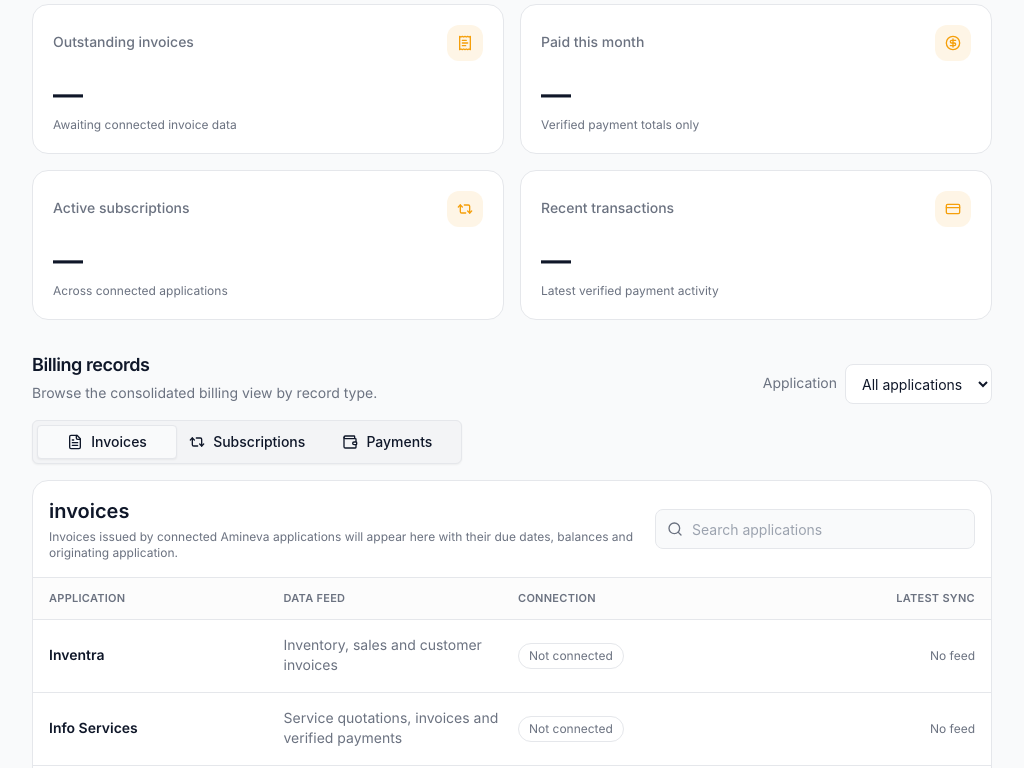
Scenario: Amineva Switch dashboard › filters the application connection list
This screenshot has width=1024, height=768.
Select "Info Services" in the dropdown named "Filter by application" at (918, 384), box [845,364,992,404]
(page scrolled)
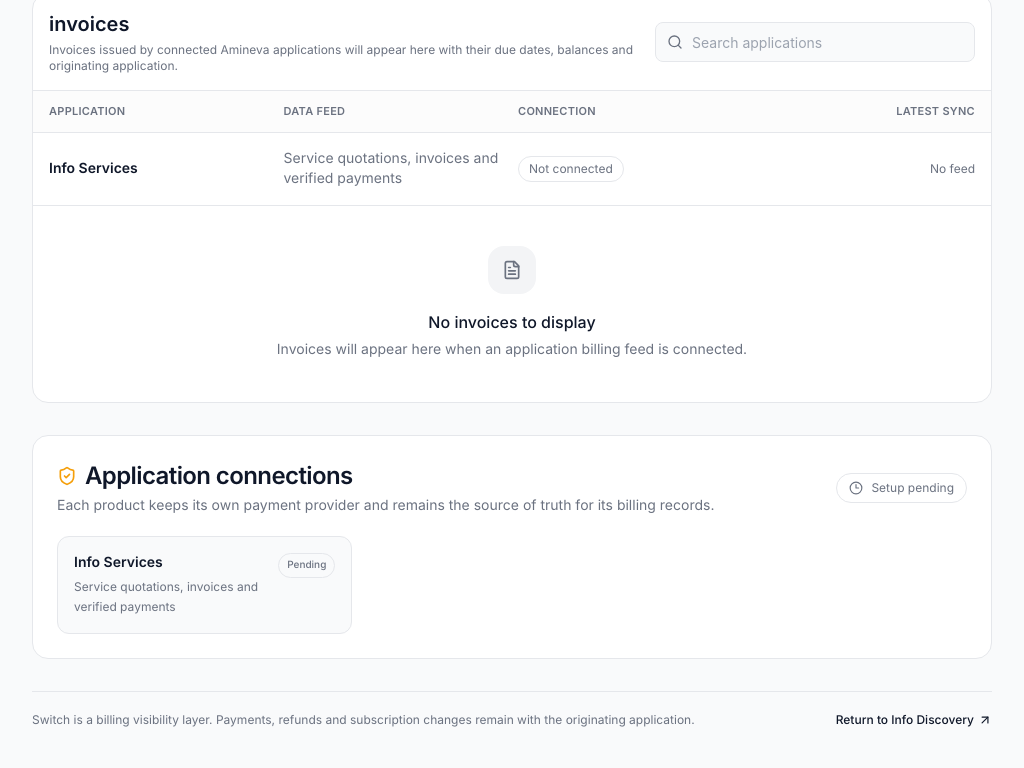
Expected: the element "Application connections" is shown, [32,434,992,658]
Now the text "Inventra" is gone
